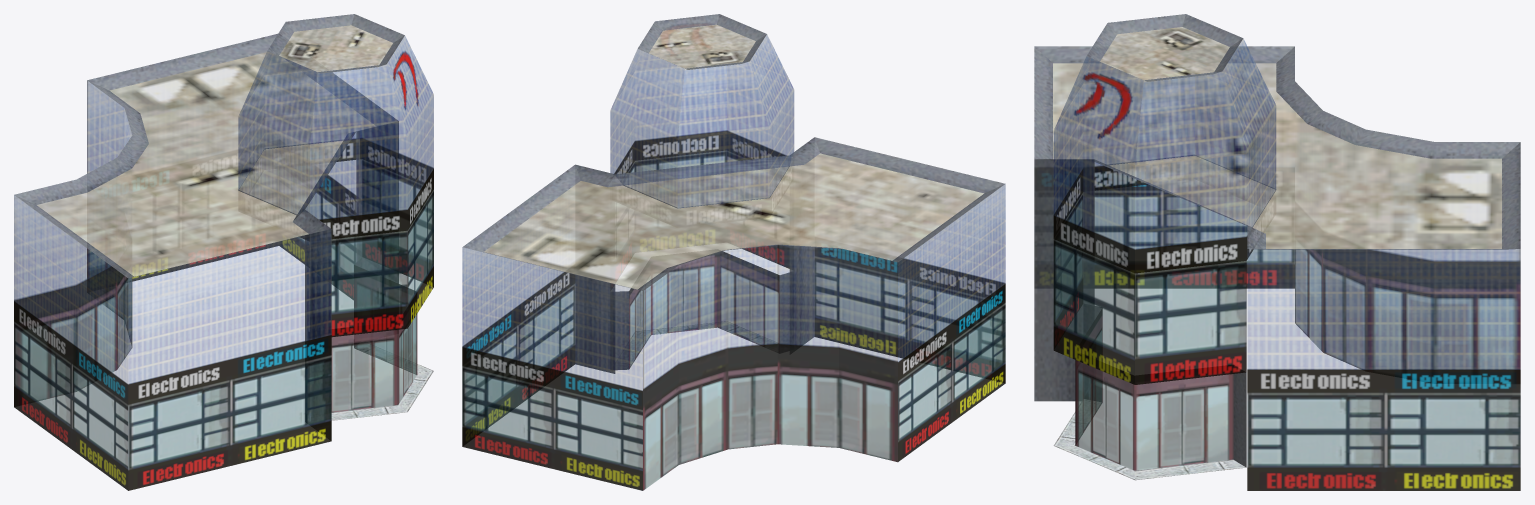
The model's file is Civilian - Commercial Building - Asian Electric Retail - Night - CBNElecRtl_N.glb.
3 views of the same model, side by side, from view 1: azimuth 30°, elevation 25°; view 2: azimuth 150°, elevation 25°; view 3: azimuth 270°, elevation 25° (orthographic). The views are drawn at different scales.
Parts seen in each view (by area): view 1: CBNELECRTL_N; view 2: CBNELECRTL_N; view 3: CBNELECRTL_N.
Boxes of the visible parts, bbox=[...] form: CBNELECRTL_N: bbox=[14, 14, 433, 490]; CBNELECRTL_N: bbox=[462, 14, 1005, 490]; CBNELECRTL_N: bbox=[1034, 14, 1520, 490].
Bounding box in the file's own units: 54.57 × 48.86 × 55.4.
Materials: 1 (1 with a texture image).
